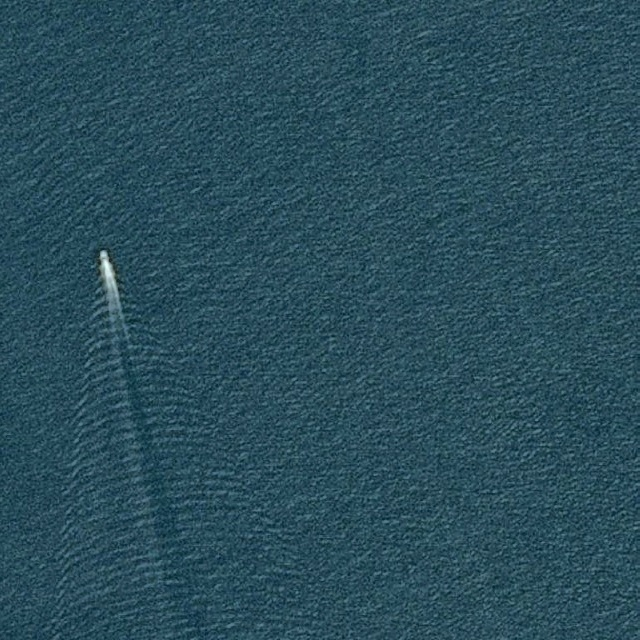wake: (42, 232, 231, 559)
